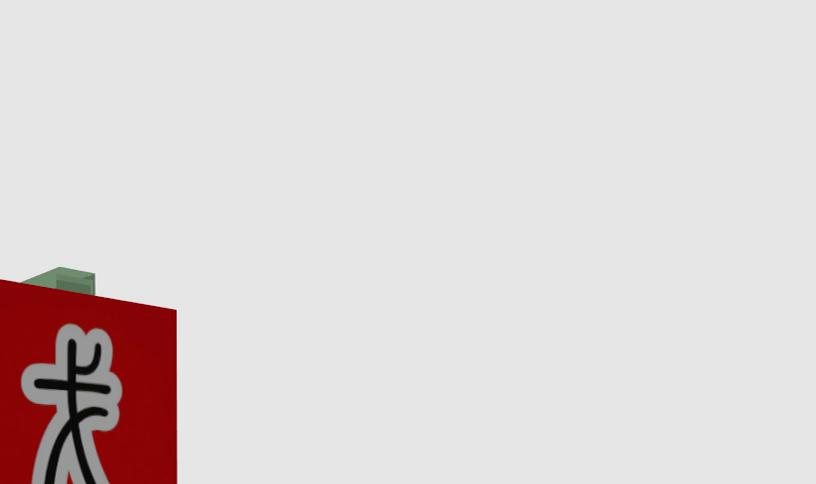KFS_FAKE: (0, 279, 177, 484), (22, 324, 122, 484)
